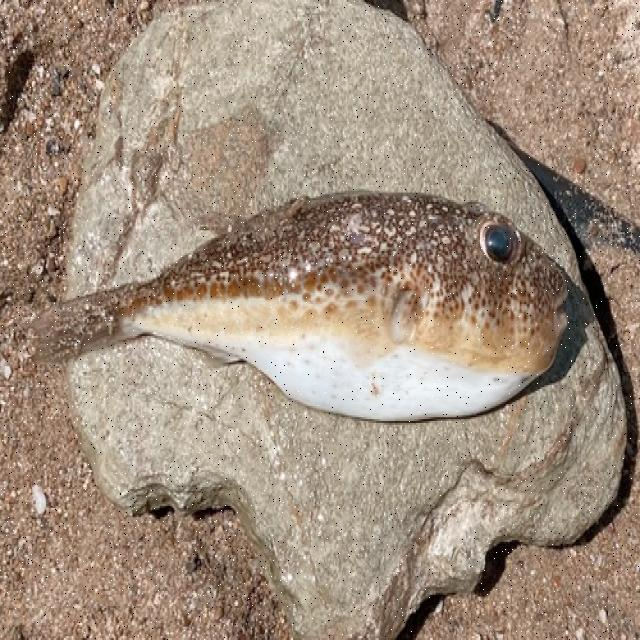Balik: (34, 193, 567, 421)
